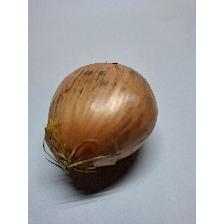Zwiebel: (42, 60, 160, 174)
